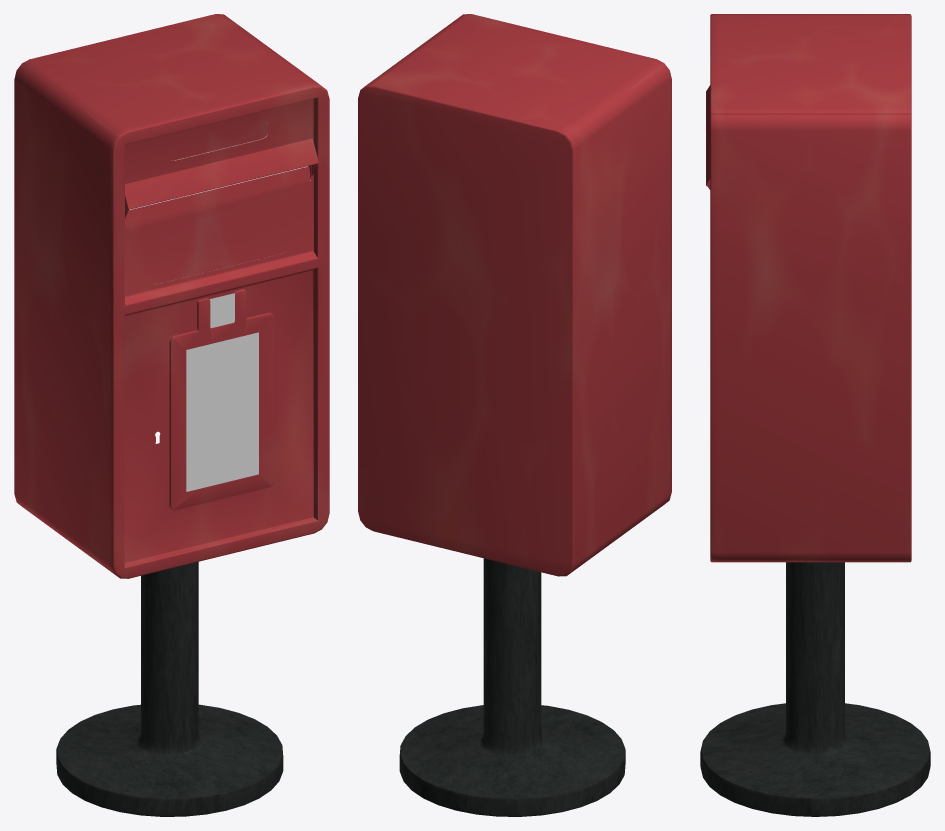
File: postbox.512.glb
3 renders of one model, left to right at view 1: azimuth 30°, elevation 25°; view 2: azimuth 150°, elevation 25°; view 3: azimuth 270°, elevation 25°, orthographic.
Parts seen in each view (by area): view 1: PostBox_Body_Cube; view 2: PostBox_Body_Cube; view 3: PostBox_Body_Cube.
Part boxes in pixels (bbox=[...]): PostBox_Body_Cube: bbox=[14, 14, 329, 816]; PostBox_Body_Cube: bbox=[358, 14, 671, 816]; PostBox_Body_Cube: bbox=[700, 14, 930, 816].
Size of the model in its own units: 1.19 by 3.68 by 1.08.
4 materials, 3 textured.
